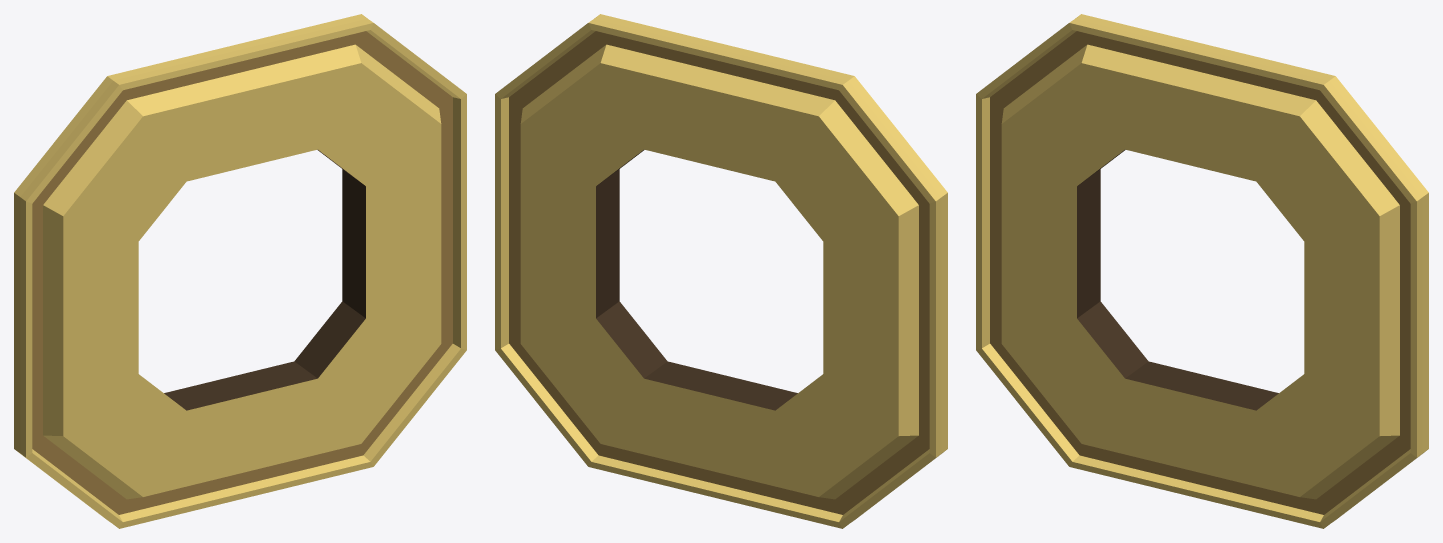
The model's file is coin.fbx.
3 renders of one model, left to right at view 1: azimuth 30°, elevation 25°; view 2: azimuth 150°, elevation 25°; view 3: azimuth 330°, elevation 25°, orthographic.
Parts seen in each view (by area): view 1: Circle; view 2: Circle; view 3: Circle.
Part boxes in pixels (x1,y1,x2,y2): Circle: (14, 14, 466, 528); Circle: (495, 14, 947, 528); Circle: (976, 14, 1428, 528).
Size of the model in its own units: 81.31 by 78.27 by 7.53.
Materials: 1 (1 with a texture image).
